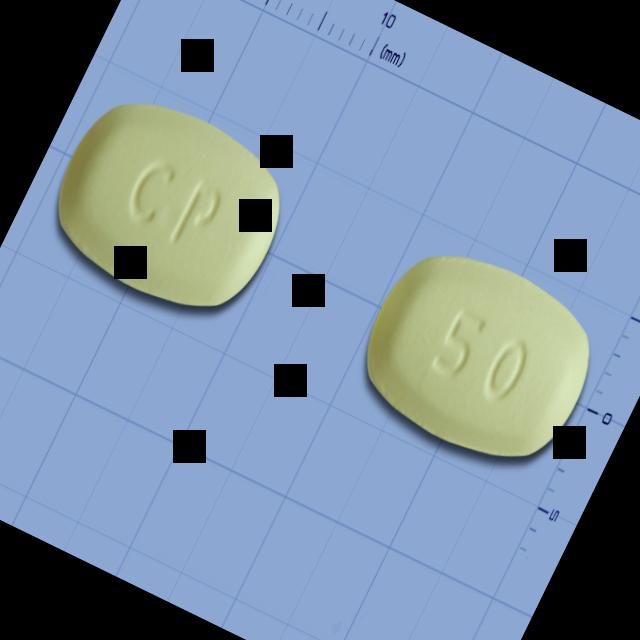Claroad: (337, 221, 622, 493), (29, 72, 310, 338)
